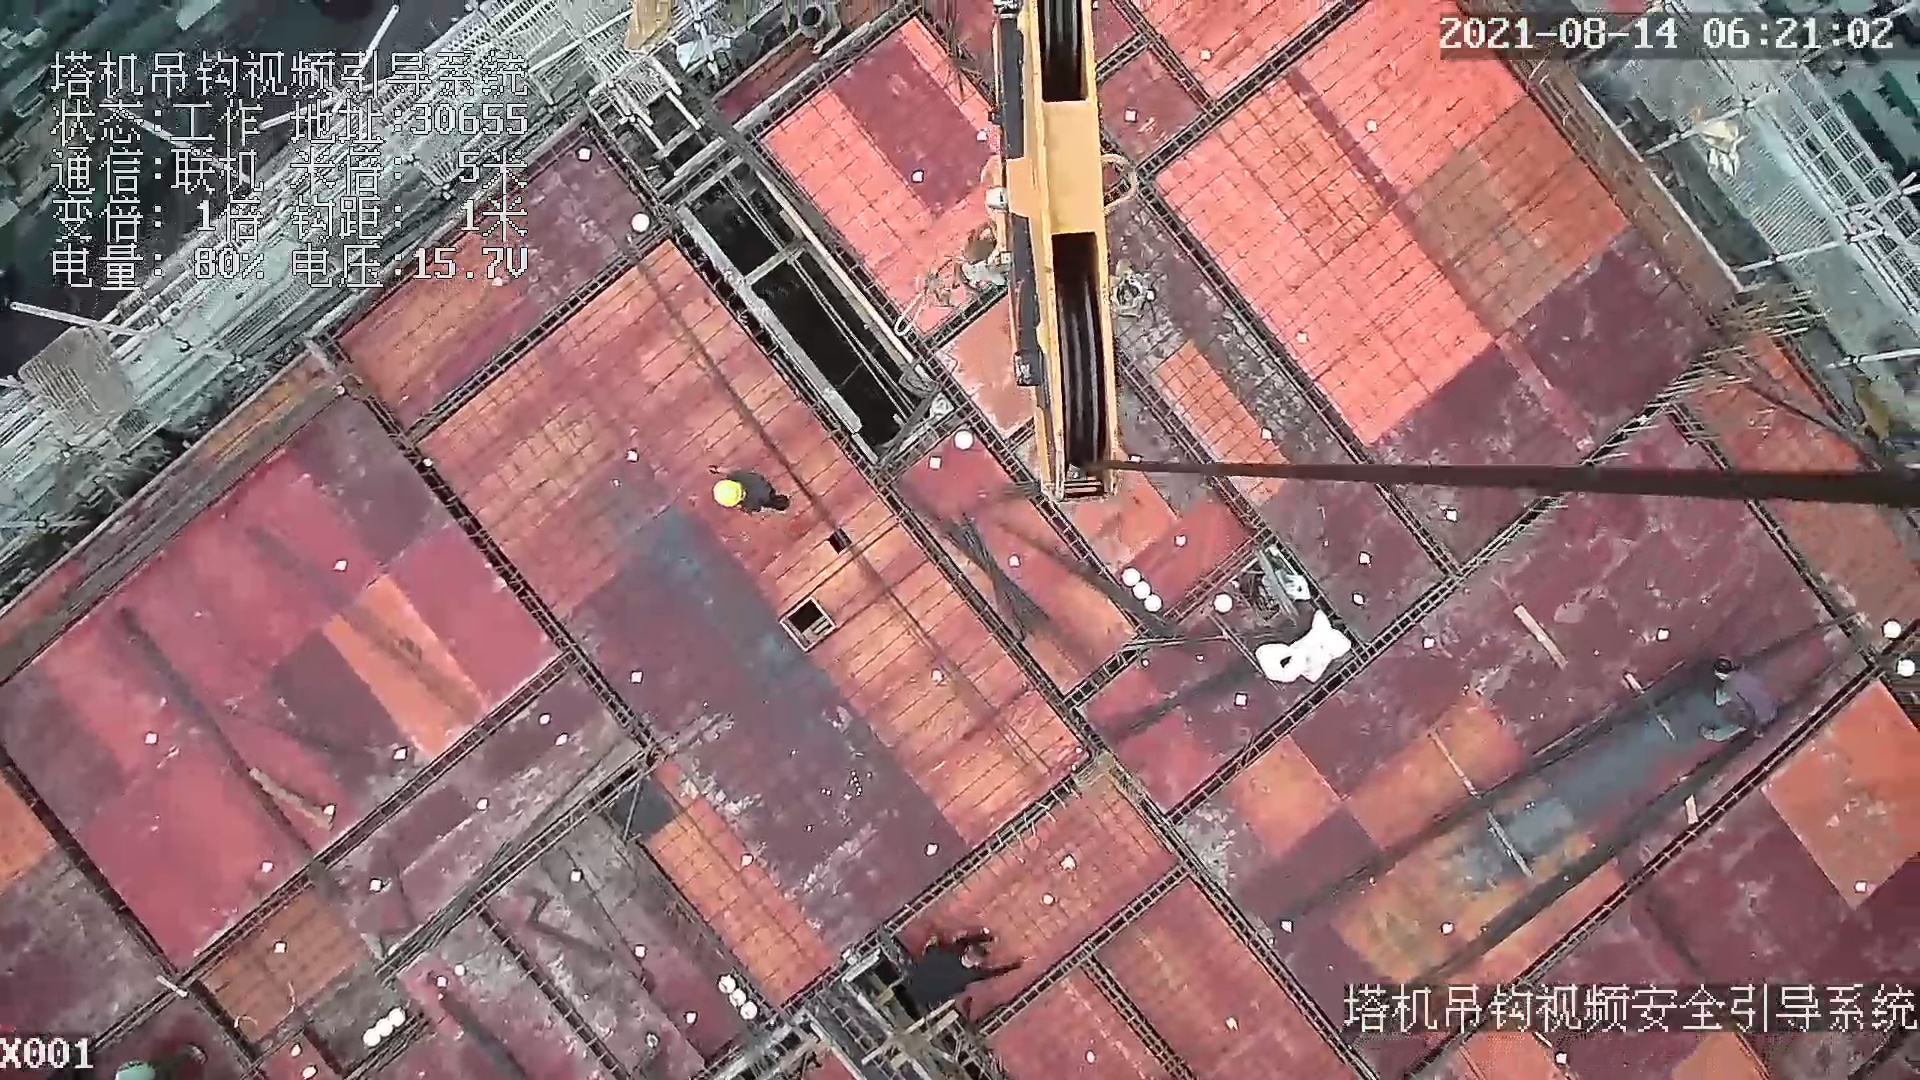helmet: (712, 478, 748, 509)
hook: (945, 1, 1150, 499)
person: (709, 467, 792, 524)
